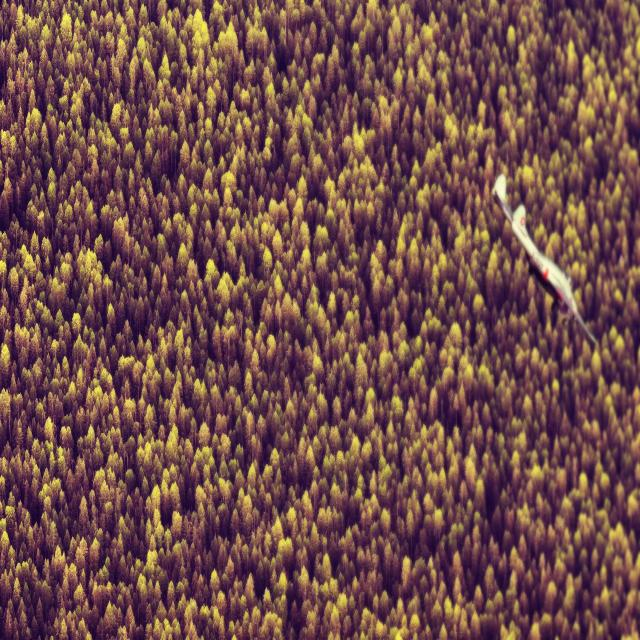airplane: (491, 173, 597, 346)
